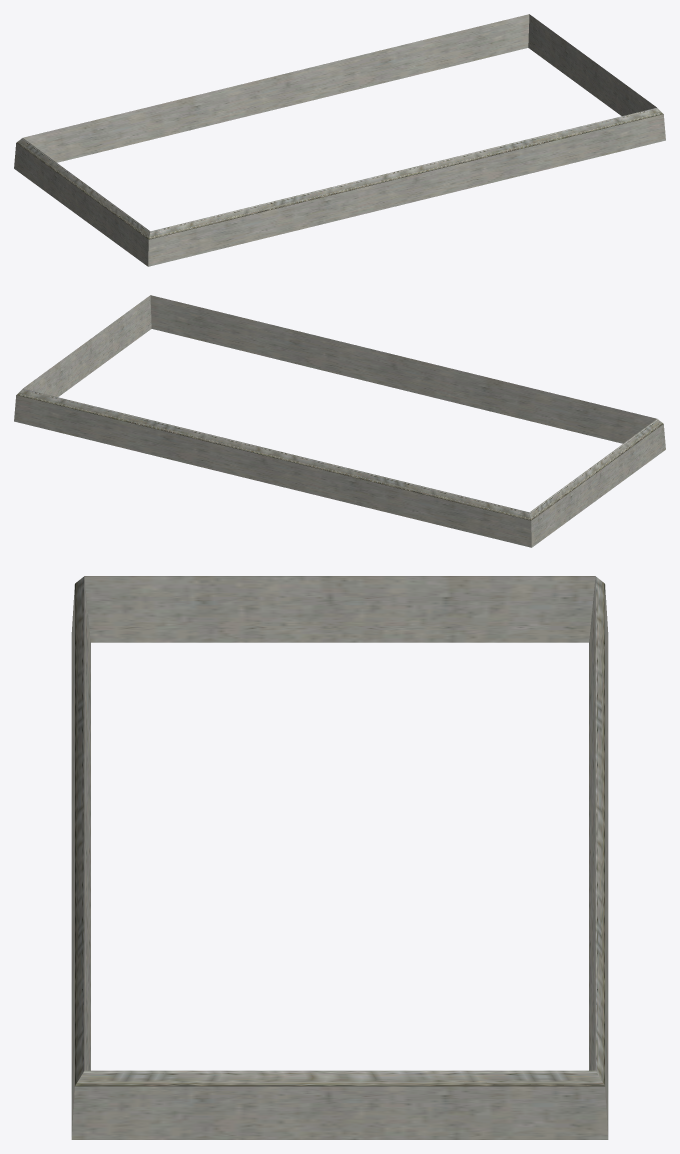
Rendered from mun_all_landing_pad_transport_l1.fbx.
3 views of the same model, one above another, from view 1: azimuth 30°, elevation 25°; view 2: azimuth 150°, elevation 25°; view 3: azimuth 270°, elevation 25° (orthographic). The views are drawn at different scales.
Parts seen in each view (by area): view 1: mesh_node; view 2: mesh_node; view 3: mesh_node.
Part boxes in pixels (bbox=[...]): mesh_node: bbox=[14, 14, 665, 266]; mesh_node: bbox=[14, 295, 665, 547]; mesh_node: bbox=[71, 576, 608, 1139].
Size of the model in its own units: 46.17 by 2.71 by 20.72.
Materials: 1 (1 with a texture image).
